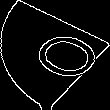O_SE: (9, 23, 101, 87)
